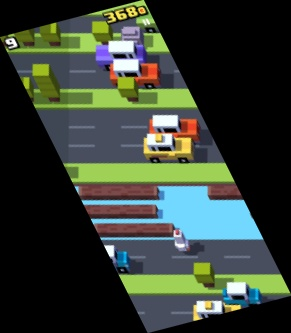car: (93, 38, 148, 72), (142, 133, 196, 163), (109, 58, 162, 88), (148, 115, 201, 144), (137, 2, 186, 32), (193, 299, 242, 327), (92, 243, 130, 274), (222, 282, 262, 310)
duck: (173, 229, 192, 254)
log: (77, 185, 160, 201), (91, 223, 175, 237), (82, 204, 159, 219), (208, 184, 252, 200)
rock: (121, 27, 144, 48)
tree: (32, 63, 62, 102), (193, 262, 216, 289), (15, 17, 36, 46), (92, 21, 113, 49), (38, 22, 61, 47), (118, 77, 139, 102), (16, 77, 35, 104), (1, 19, 10, 49)
water: (73, 185, 266, 239)
